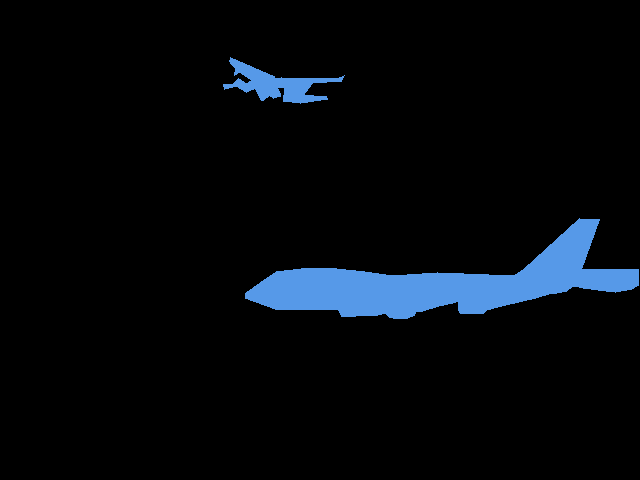Airplane: (245, 218, 639, 318), (223, 57, 344, 103)
